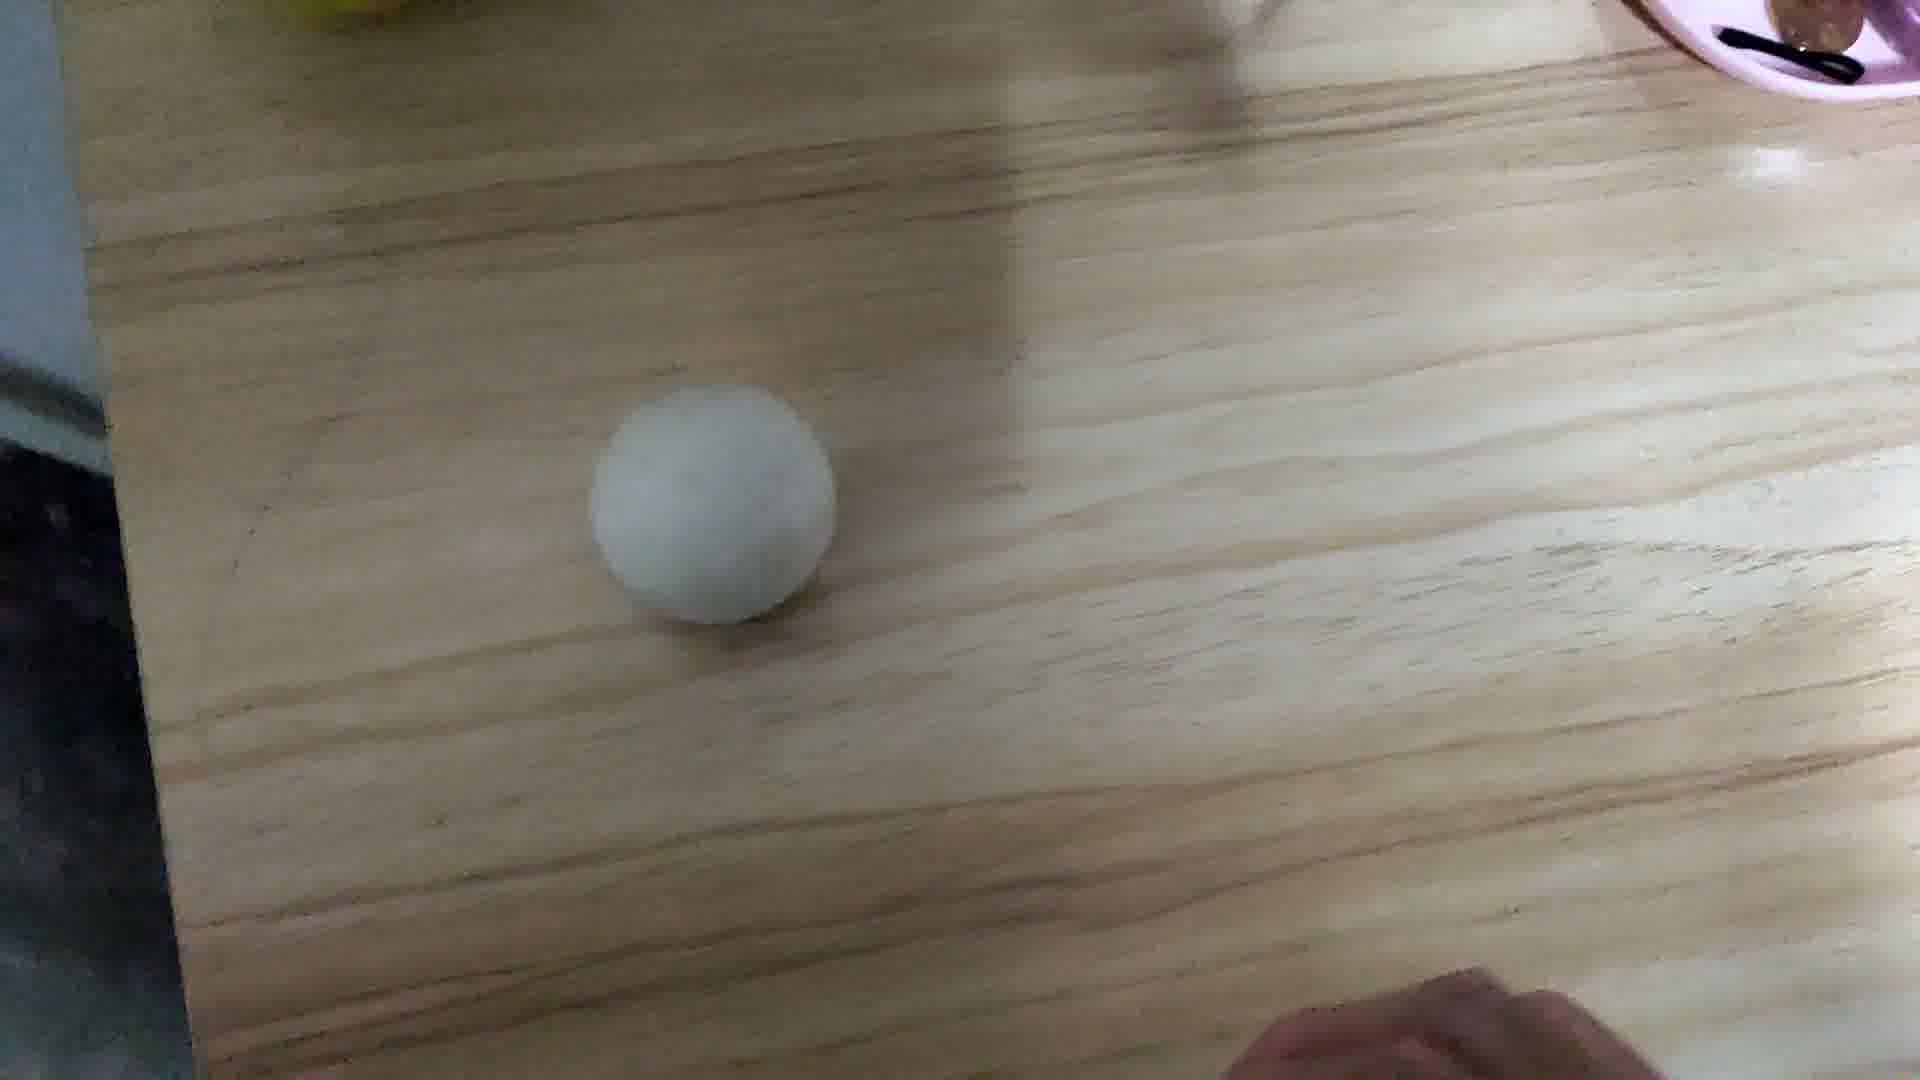Ball: (591, 385, 841, 624)
